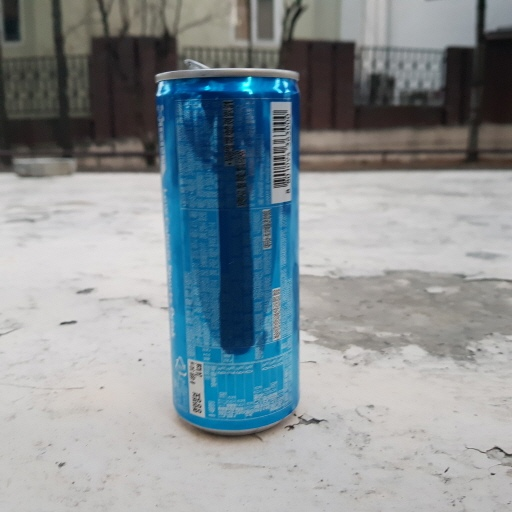Metal_0: (151, 57, 307, 439)
